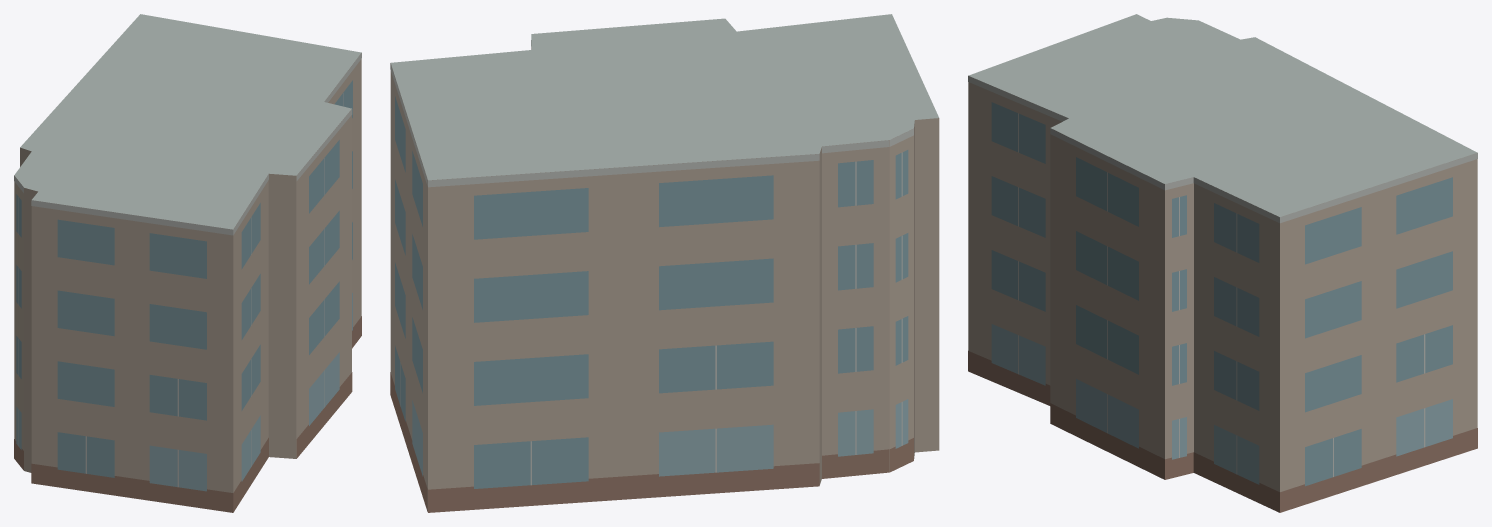
Rendered from survey-upis-33028877.glb.
3 views of the same model, side by side, from view 1: azimuth 30°, elevation 25°; view 2: azimuth 150°, elevation 25°; view 3: azimuth 270°, elevation 25° (orthographic). The views are drawn at different scales.
Parts seen in each view (by area): view 1: survey-upis-33028877.tmp; view 2: survey-upis-33028877.tmp; view 3: survey-upis-33028877.tmp.
Boxes of the visible parts, <box> form: survey-upis-33028877.tmp: <box>14,14,361,512</box>; survey-upis-33028877.tmp: <box>390,14,939,512</box>; survey-upis-33028877.tmp: <box>968,14,1477,512</box>.
Bounding box in the file's own units: 17.25 × 11.7 × 18.28.
